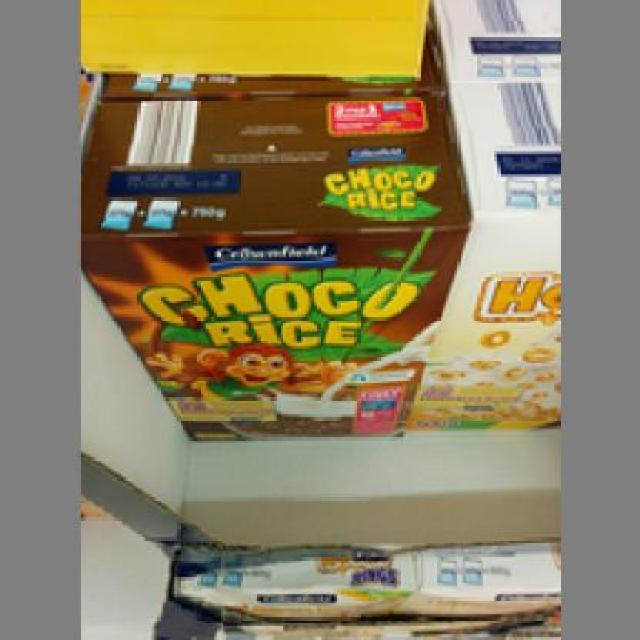Cereal: (74, 154, 457, 440)
